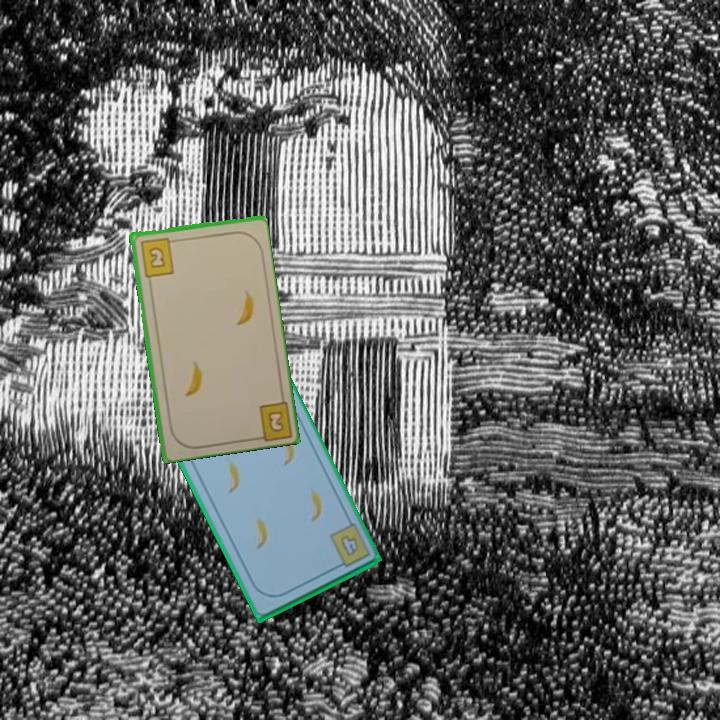2b: (136, 234, 178, 279), (264, 407, 287, 435)
4b: (336, 531, 361, 559)
